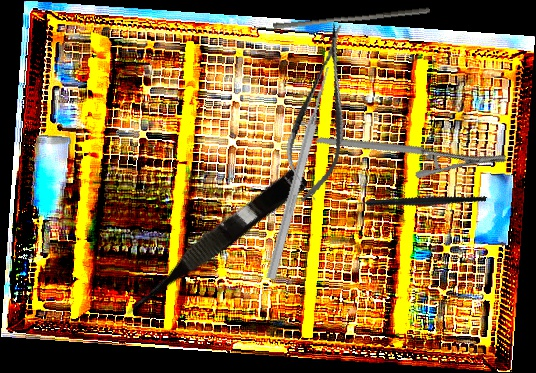Chopper: (341, 155, 487, 254)
Micro Scissor: (115, 161, 310, 323), (275, 17, 368, 209)
Needle Holder: (315, 79, 510, 219)
Pusher: (264, 65, 335, 281), (272, 1, 431, 35)
